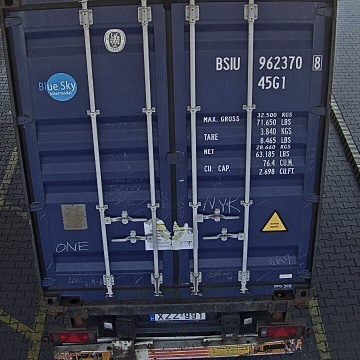serial_id: (216, 56, 322, 70)
